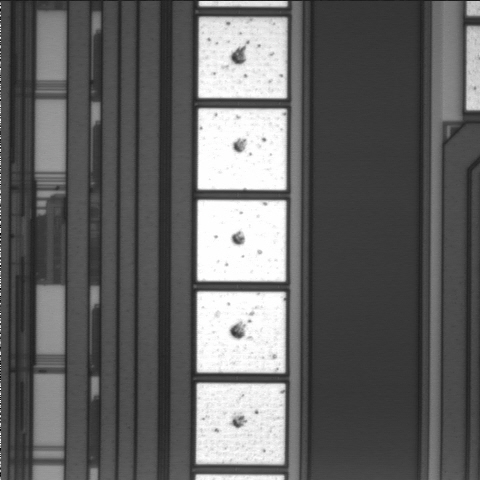pad: (198, 108, 287, 190), (197, 200, 286, 282), (197, 291, 286, 373), (198, 17, 287, 98), (196, 383, 285, 464)
